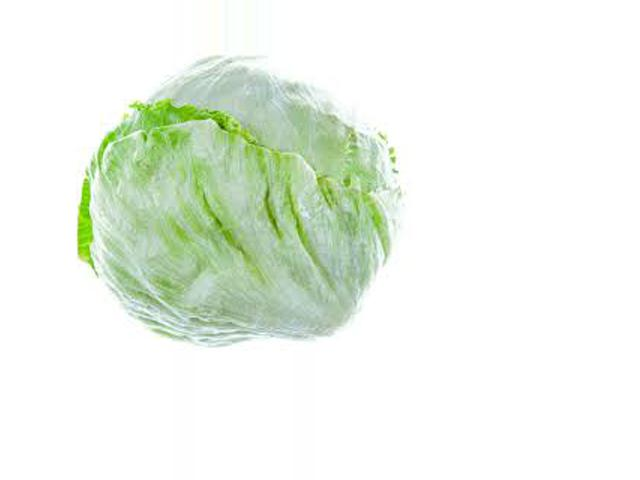lettuce: (82, 61, 398, 330)
